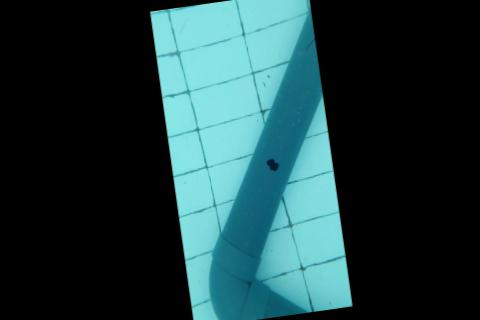kebocoran: (264, 154, 280, 173)
keretakan: (302, 38, 316, 53)
